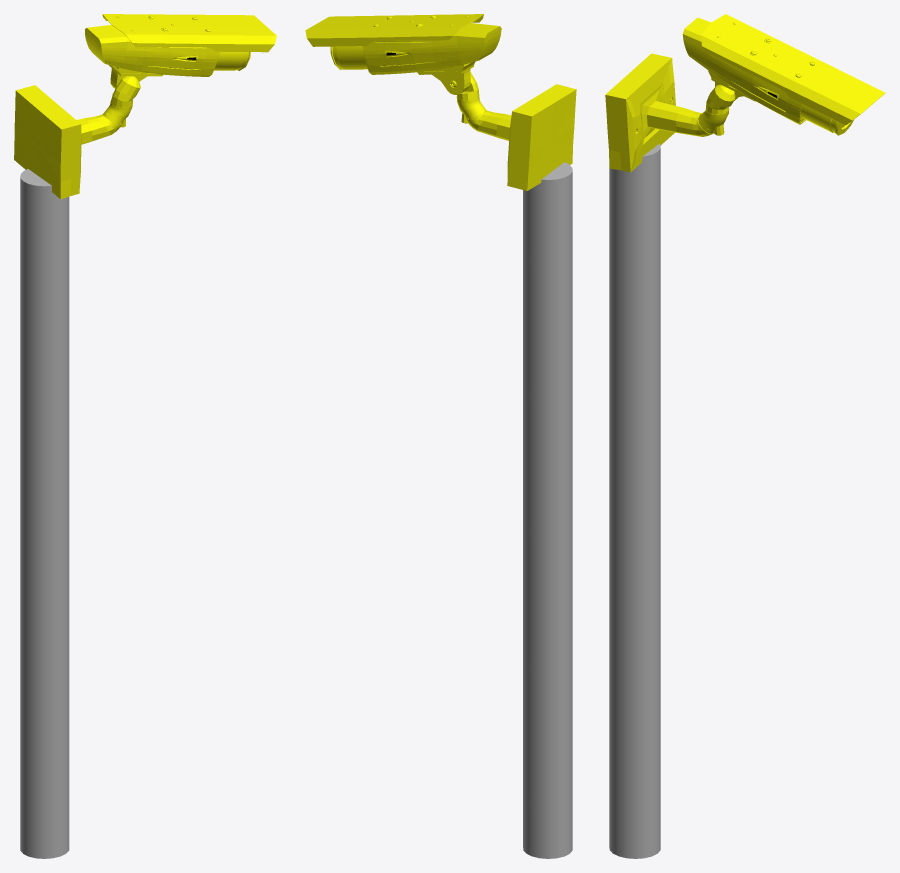
File: sxt.gltf
3 views of the same model, side by side, from view 1: azimuth 30°, elevation 25°; view 2: azimuth 150°, elevation 25°; view 3: azimuth 330°, elevation 25° (orthographic). The views are drawn at different scales.
Visible parts, largest first — view 1: Cylinder001, Camera_body_metal (×7), Camera_head_metal; view 2: Cylinder001, Camera_body_metal (×6), Camera_head_metal; view 3: Cylinder001, Camera_body_metal (×8), Camera_head_metal.
Boxes of the visible parts, x1,y1,x2,y2 form: Cylinder001: [20, 169, 69, 858]; Camera_body_metal (×7): [14, 14, 276, 199]; Camera_head_metal: [85, 25, 219, 76]; Cylinder001: [523, 162, 572, 858]; Camera_body_metal (×6): [305, 14, 576, 190]; Camera_head_metal: [363, 23, 501, 74]; Cylinder001: [609, 144, 660, 858]; Camera_body_metal (×8): [605, 14, 885, 172]; Camera_head_metal: [682, 17, 805, 124].
Size of the model in its own units: 0.4064 by 1.27 by 0.1382.
5 materials, 1 textured.
